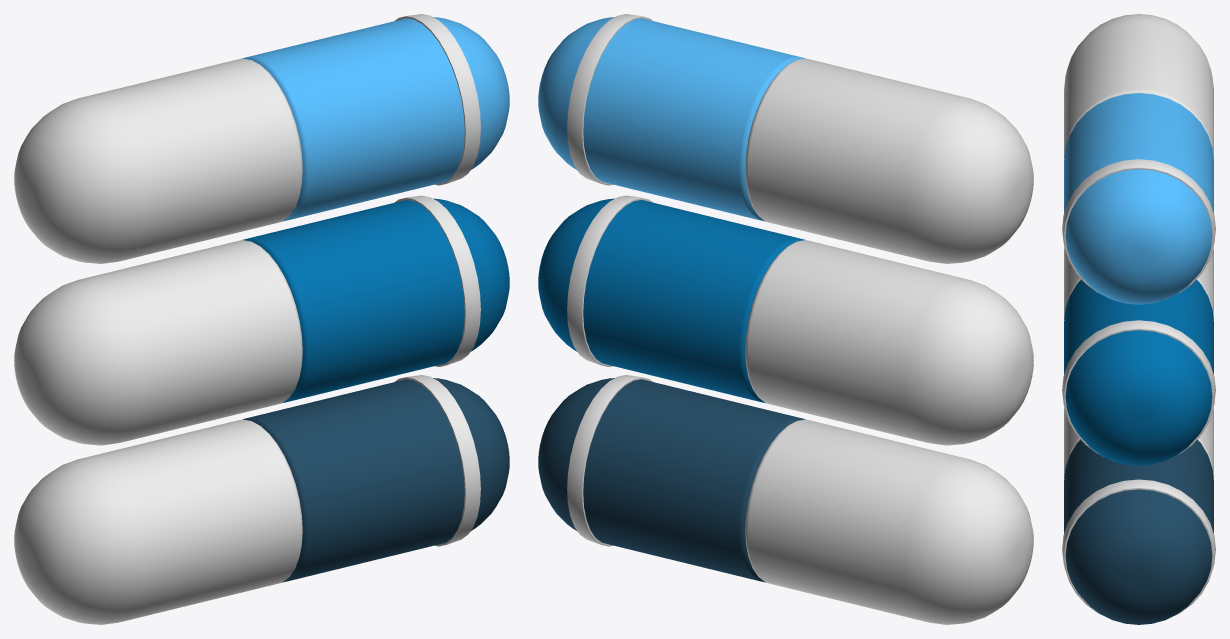
Rendered from menu-pills.fbx.
3 views of the same model, side by side, from view 1: azimuth 30°, elevation 25°; view 2: azimuth 150°, elevation 25°; view 3: azimuth 270°, elevation 25° (orthographic). The views are drawn at different scales.
Parts seen in each view (by area): view 1: Cylinder.008, Cylinder.002, Cylinder.006, Cylinder.004, Cylinder.007, Cylinder.005; view 2: Cylinder.008, Cylinder.002, Cylinder.006, Cylinder.004, Cylinder.007, Cylinder.005; view 3: Cylinder.004, Cylinder.005, Cylinder.007, Cylinder.002, Cylinder.006, Cylinder.008.
Boxes of the visible parts, box(x1,y1,x2,y2) form: Cylinder.008: box(14, 419, 302, 624); Cylinder.002: box(14, 58, 302, 263); Cylinder.006: box(14, 240, 302, 445); Cylinder.004: box(242, 14, 509, 221); Cylinder.007: box(243, 375, 509, 582); Cylinder.005: box(243, 195, 509, 402); Cylinder.008: box(745, 419, 1033, 624); Cylinder.002: box(745, 58, 1033, 263); Cylinder.006: box(745, 240, 1033, 445); Cylinder.004: box(538, 14, 805, 221); Cylinder.007: box(538, 375, 804, 582); Cylinder.005: box(538, 195, 804, 402); Cylinder.004: box(1062, 93, 1215, 304); Cylinder.005: box(1062, 279, 1215, 465); Cylinder.007: box(1062, 439, 1215, 624); Cylinder.002: box(1064, 14, 1213, 158); Cylinder.006: box(1064, 247, 1213, 319); Cylinder.008: box(1064, 408, 1213, 478).
Bounding box in the file's own units: 756 × 804 × 244.
